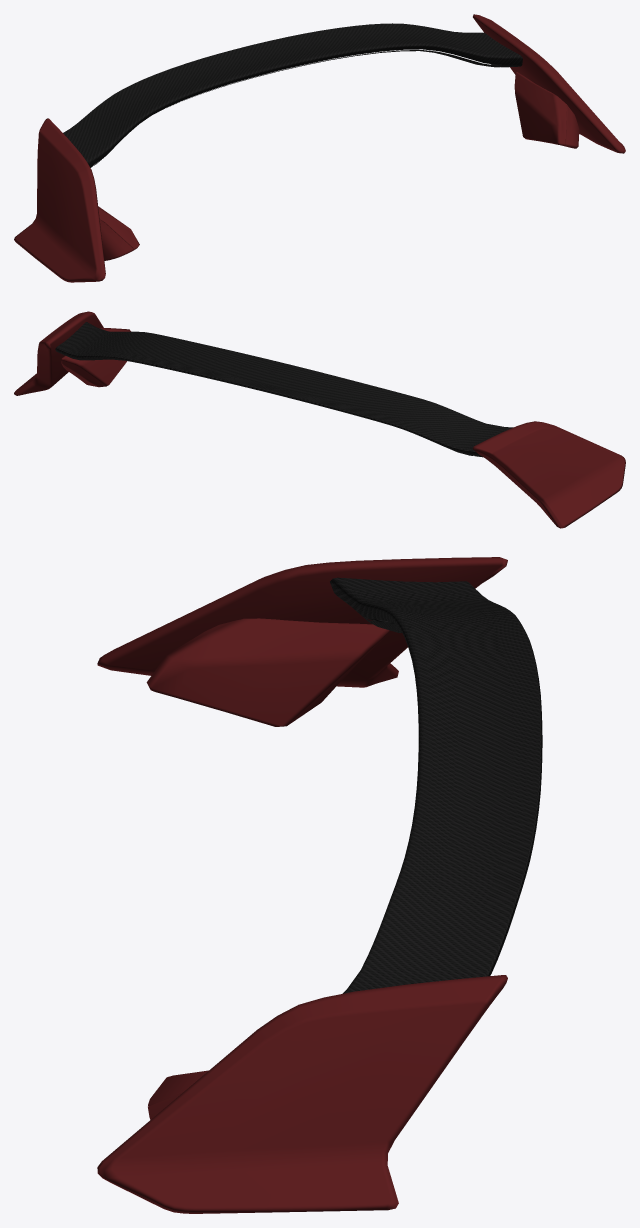
The model's file is Honda_Civic_Spoiler.glb.
3 renders of one model, top to bottom at view 1: azimuth 30°, elevation 25°; view 2: azimuth 150°, elevation 25°; view 3: azimuth 270°, elevation 25°, orthographic. The views are drawn at different scales.
Parts seen in each view (by area): view 1: Mesh_Honda_Civic_Spoiler; view 2: Mesh_Honda_Civic_Spoiler; view 3: Mesh_Honda_Civic_Spoiler.
Part boxes in pixels (box(x1,y1,x2,y2)): Mesh_Honda_Civic_Spoiler: box(14, 14, 625, 282); Mesh_Honda_Civic_Spoiler: box(14, 311, 625, 528); Mesh_Honda_Civic_Spoiler: box(97, 557, 542, 1213).
Size of the model in its own units: 72.26 by 13.33 by 25.03.
Materials: 2 (1 with a texture image).
